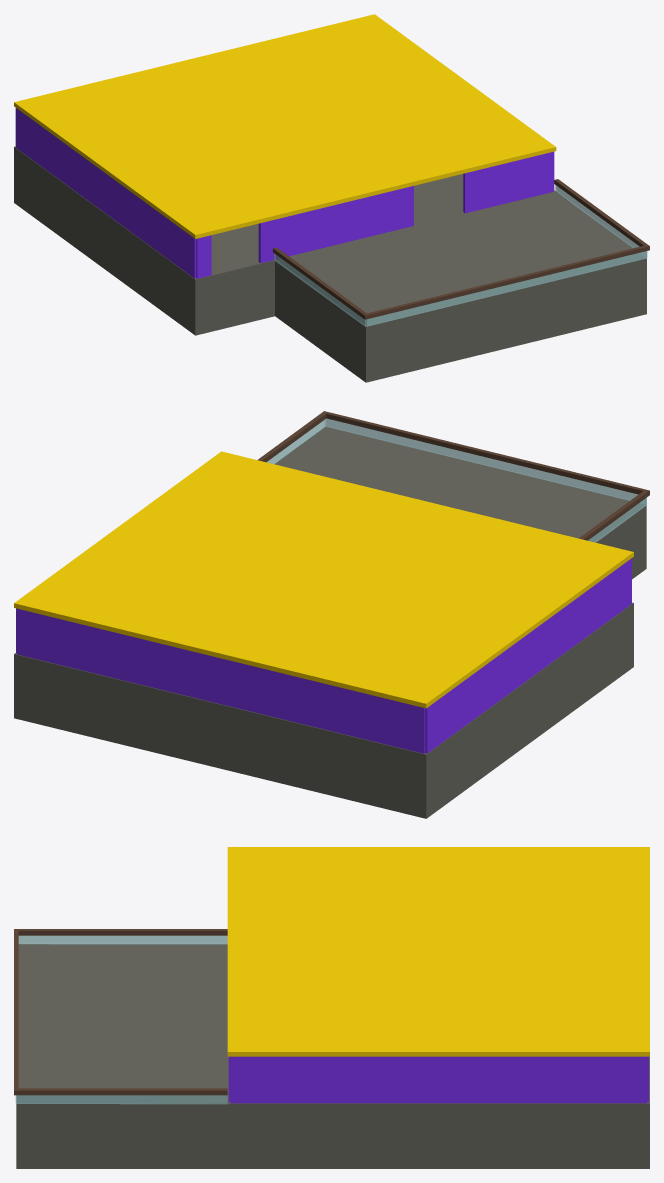
File: Star Widget.fbx
The picture shows the model from 3 angles, top to bottom: view 1: azimuth 30°, elevation 25°; view 2: azimuth 150°, elevation 25°; view 3: azimuth 270°, elevation 25°; orthographic projection. The views are drawn at different scales.
Visible parts, largest first — view 1: Roof, Foundation, Walls.018, Walls.005, Walls, Fence, Fence Top, Walls.004, Walls.002; view 2: Roof, Foundation, Walls.001, Walls.018, Walls.003, Fence, Fence Top, Walls.019; view 3: Roof, Foundation, Walls.016, Walls.017, Fence, Fence Top, Walls.011.
Boxes of the visible parts, bbox=[...] form: Roof: bbox=[14, 14, 556, 238]; Foundation: bbox=[14, 146, 646, 382]; Walls.018: bbox=[15, 108, 196, 278]; Walls.005: bbox=[274, 186, 413, 259]; Walls: bbox=[463, 151, 553, 213]; Fence: bbox=[274, 185, 647, 326]; Fence Top: bbox=[273, 179, 649, 319]; Walls.004: bbox=[258, 220, 274, 263]; Walls.002: bbox=[196, 235, 211, 278]; Roof: bbox=[14, 451, 633, 708]; Foundation: bbox=[14, 426, 646, 818]; Walls.001: bbox=[17, 608, 268, 715]; Walls.018: bbox=[425, 558, 631, 753]; Walls.003: bbox=[335, 686, 425, 753]; Fence: bbox=[267, 418, 646, 542]; Fence Top: bbox=[257, 411, 649, 540]; Walls.019: bbox=[268, 670, 335, 731]; Roof: bbox=[227, 847, 649, 1056]; Foundation: bbox=[16, 944, 649, 1168]; Walls.016: bbox=[231, 1056, 519, 1103]; Walls.017: bbox=[552, 1056, 646, 1103]; Fence: bbox=[15, 935, 227, 1104]; Fence Top: bbox=[14, 929, 227, 1095]; Walls.011: bbox=[520, 1056, 552, 1103].
Size of the model in its own units: 4685 by 1243 by 6115.
